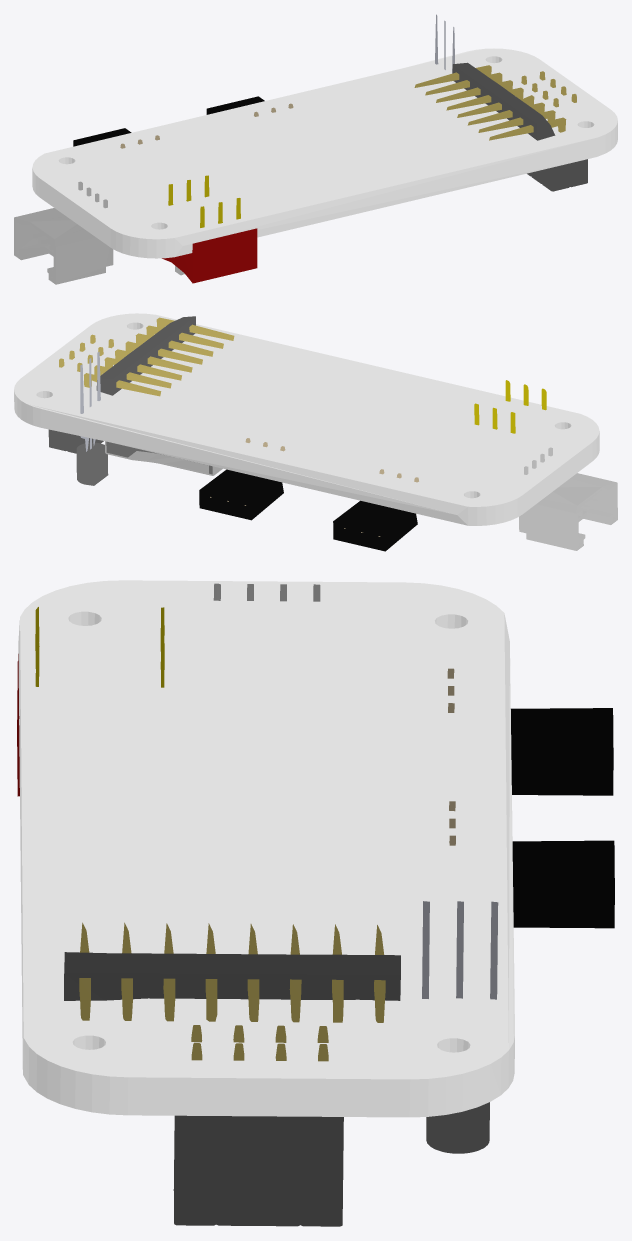
The model's file is hacklab.glb.
3 renders of one model, top to bottom at view 1: azimuth 30°, elevation 25°; view 2: azimuth 150°, elevation 25°; view 3: azimuth 270°, elevation 25°, orthographic. The views are drawn at different scales.
Parts seen in each view (by area): view 1: OBJ_PCB-Unyx; view 2: OBJ_PCB-Unyx; view 3: OBJ_PCB-Unyx.
Part boxes in pixels (<box>): OBJ_PCB-Unyx: <box>14,14,617,284</box>; OBJ_PCB-Unyx: <box>14,313,617,551</box>; OBJ_PCB-Unyx: <box>17,580,614,1226</box>.
Size of the model in its own units: 20.79 by 4.7 by 9.95.
